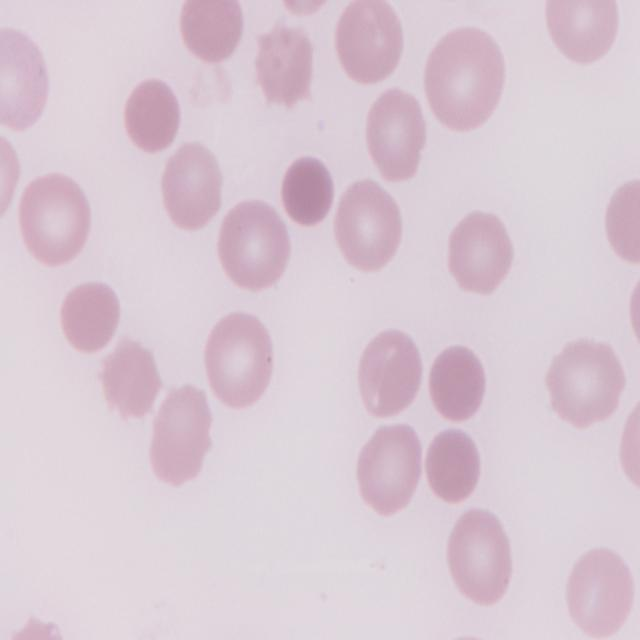RBC: (422, 23, 510, 135), (200, 304, 276, 410), (18, 166, 95, 268), (545, 331, 625, 428), (215, 197, 293, 296), (150, 381, 218, 492), (562, 542, 638, 640), (444, 506, 516, 606), (331, 179, 404, 275), (362, 86, 430, 188), (354, 424, 424, 522), (354, 326, 426, 419), (334, 0, 409, 89), (157, 138, 226, 234), (448, 208, 517, 297), (0, 26, 53, 139), (544, 1, 622, 66), (602, 172, 640, 270)
Spherocyte: (424, 422, 488, 504), (424, 340, 488, 422), (58, 277, 123, 355), (175, 0, 248, 69), (120, 71, 182, 152), (279, 156, 334, 226)
